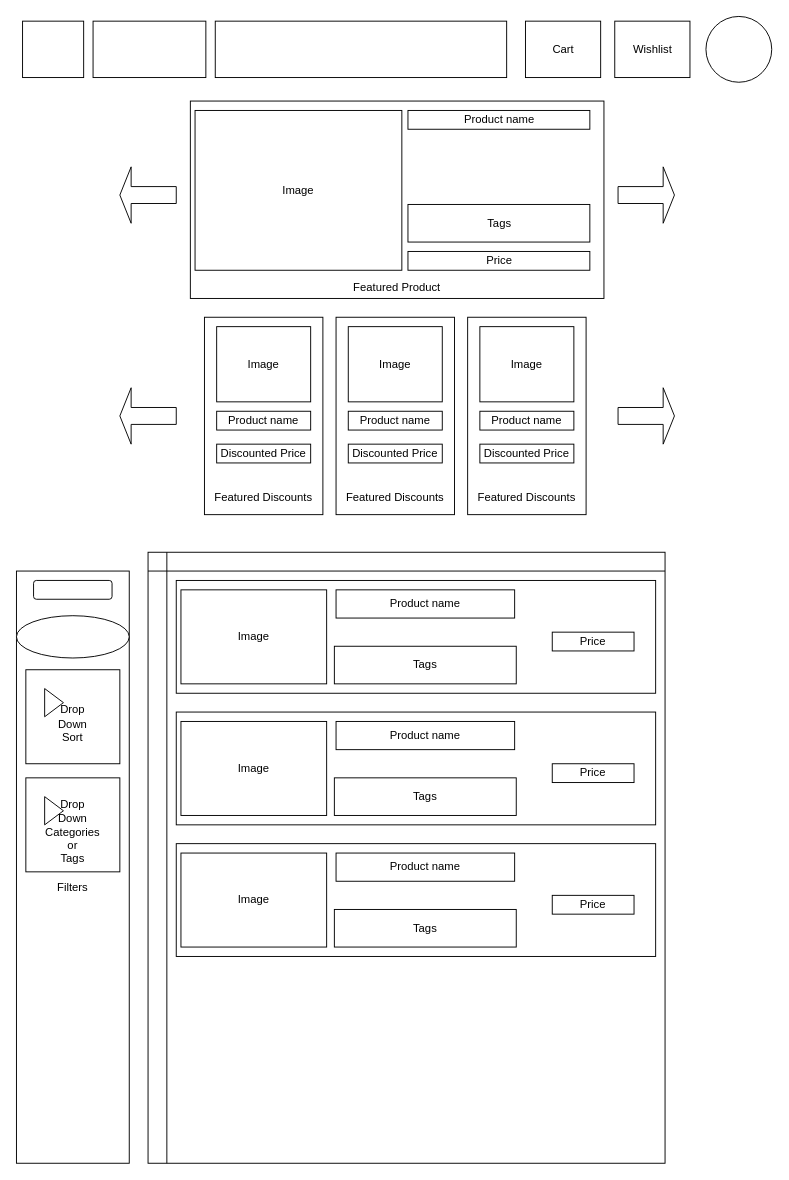
Image size: 789x1180. Some labels were removed from this diagram. Here are the shapes that lost their labels. From the top down, the centre of each, then its label:
[53,49]: Home
[149,49]: Recommendations
[360,49]: Search bar
[738,49]: User Profile
[72,589]: Price slider
[72,636]: Discounts Filter
